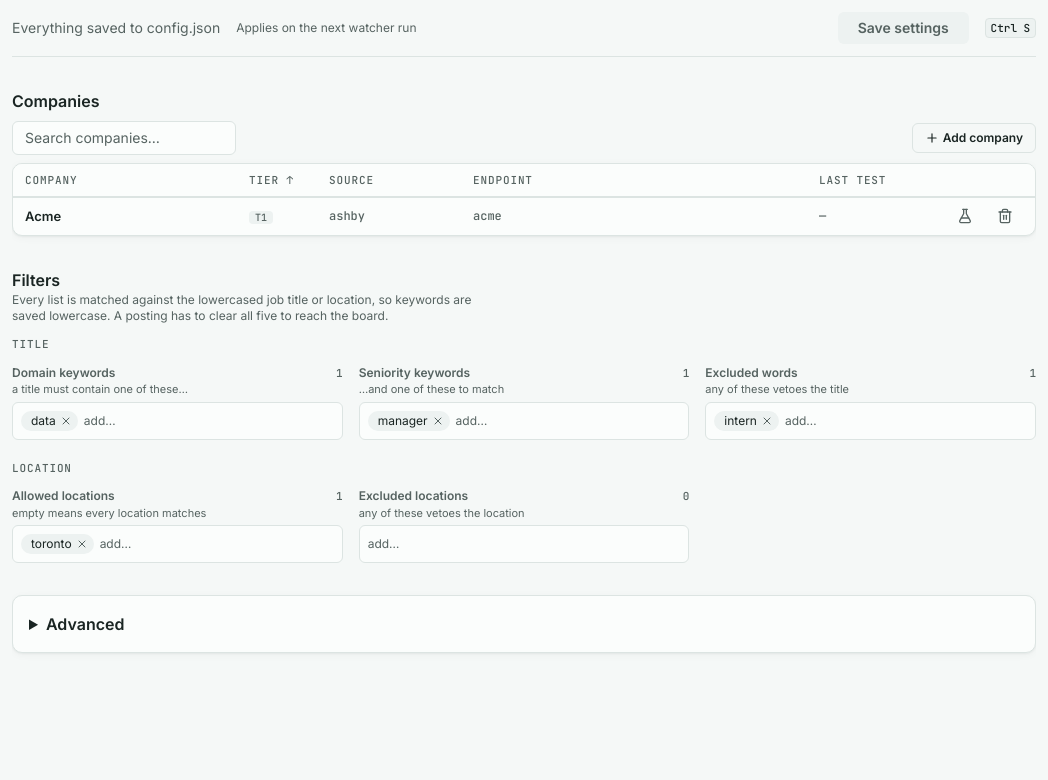
Test: SettingsPage › marks a failed fetch in the row
Expected: the button "Acme" is shown, [25,206,61,226]
What coordinates should you click on to do the following:
click the button named "Test Acme"
I would click on:
 (965, 216)
Its box is [947,198,983,234].
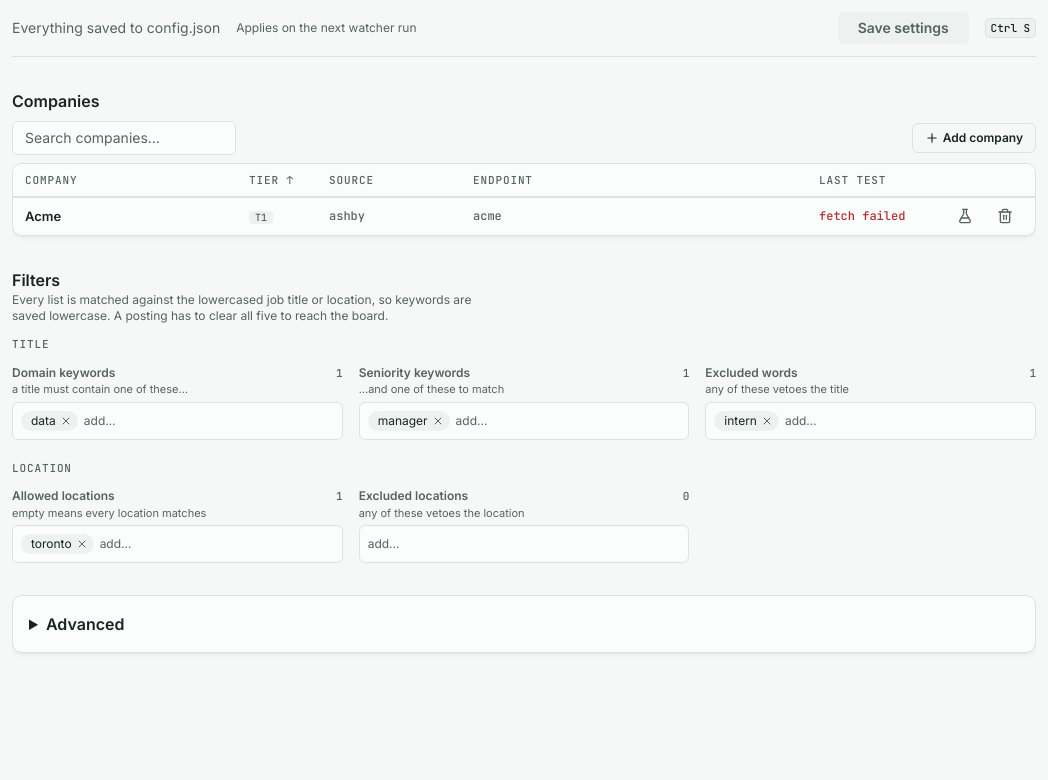
Expected: the text "fetch failed" is shown, [819,208,905,224]
